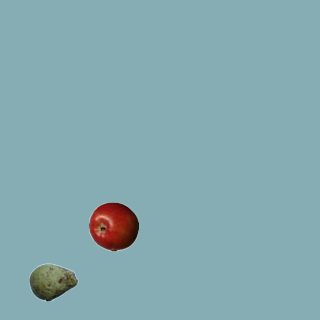Apple Braeburn: (88, 201, 138, 251)
Pear Stone: (28, 257, 78, 307)
